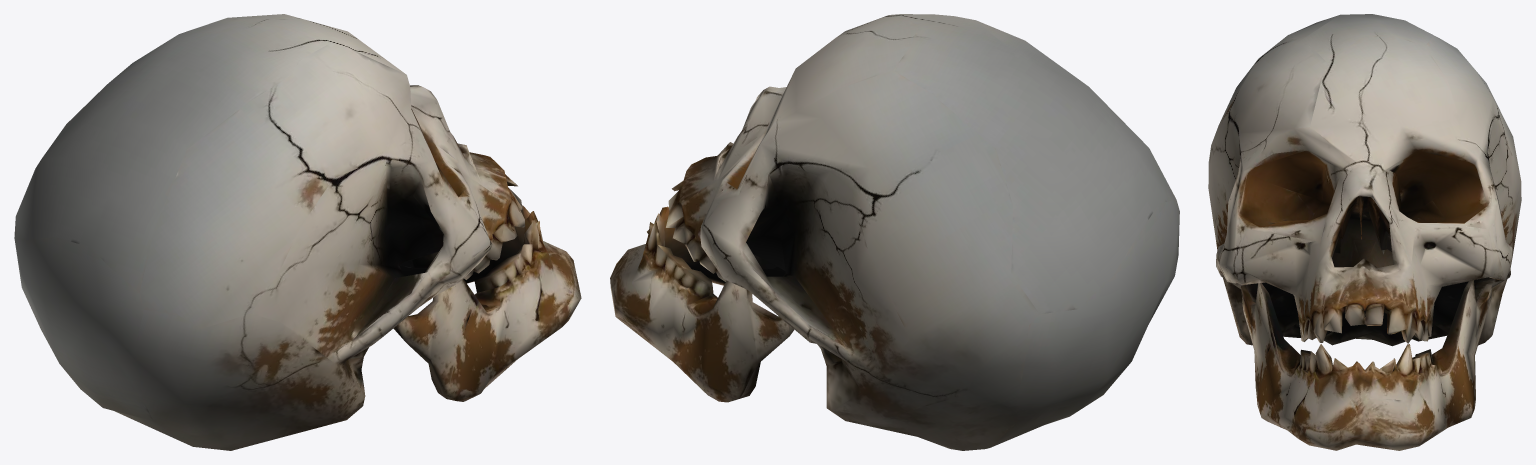
File: skull.opt.glb
3 views of the same model, side by side, from view 1: azimuth 30°, elevation 25°; view 2: azimuth 150°, elevation 25°; view 3: azimuth 270°, elevation 25° (orthographic). The views are drawn at different scales.
Visible parts, largest first — view 1: node_0; view 2: node_0; view 3: node_0.
Part boxes in pixels (x1,y1,x2,y2): node_0: (14,14,581,450); node_0: (610,14,1179,450); node_0: (1208,14,1521,450).
Size of the model in its own units: 1.08 by 0.7298 by 0.6402.
Materials: 1 (1 with a texture image).
